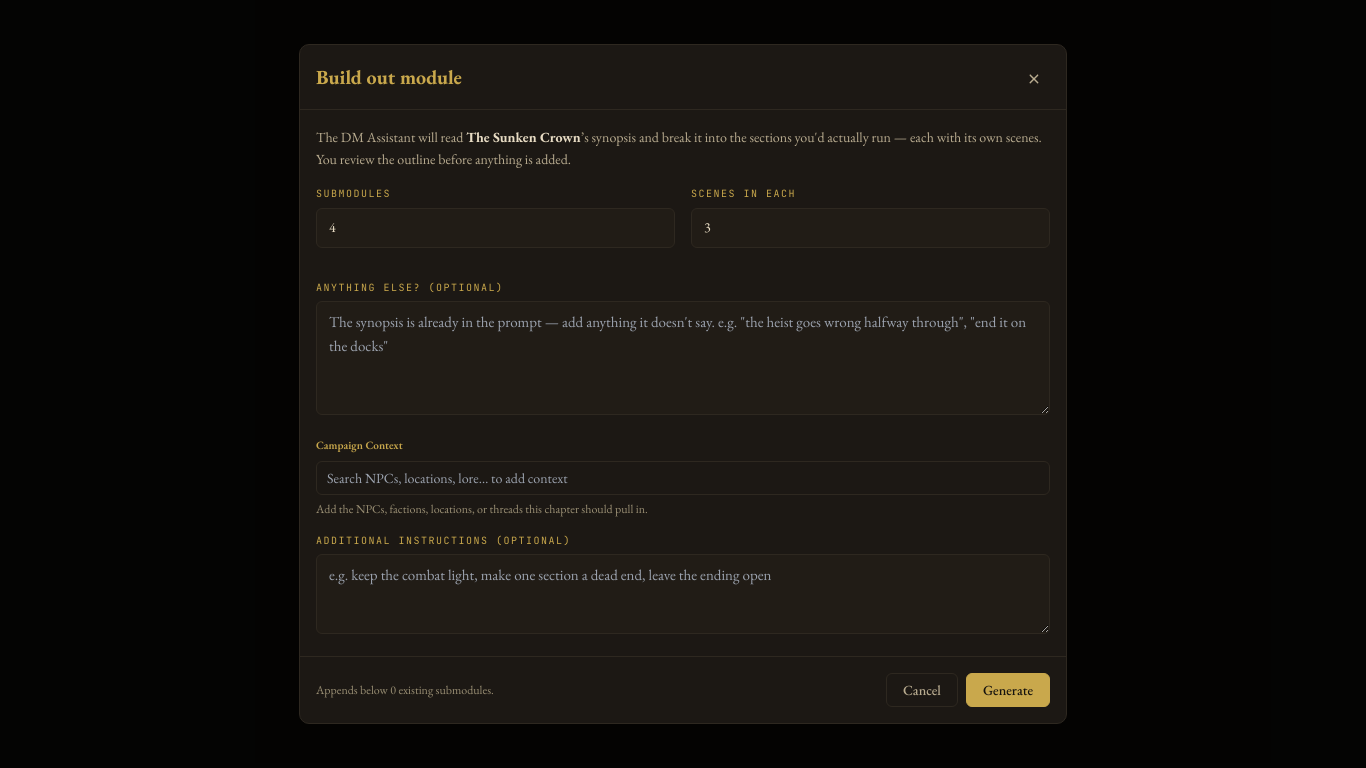
GenerateModuleStructureModal › sends the module synopsis and the chosen counts in the prompt
Click the button "Generate": [1008, 690] box [966, 673, 1050, 707]
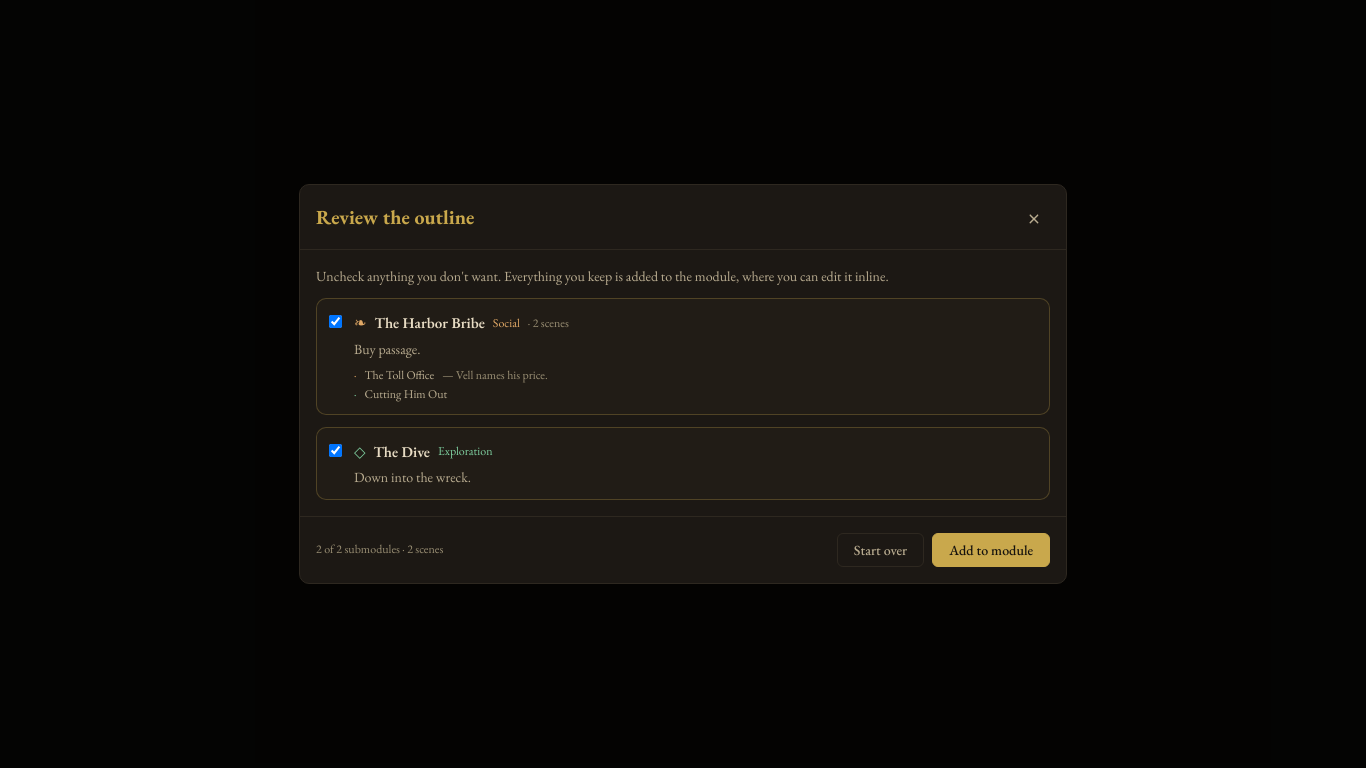
Check: the text "The Harbor Bribe" is shown, box [375, 311, 485, 335]
